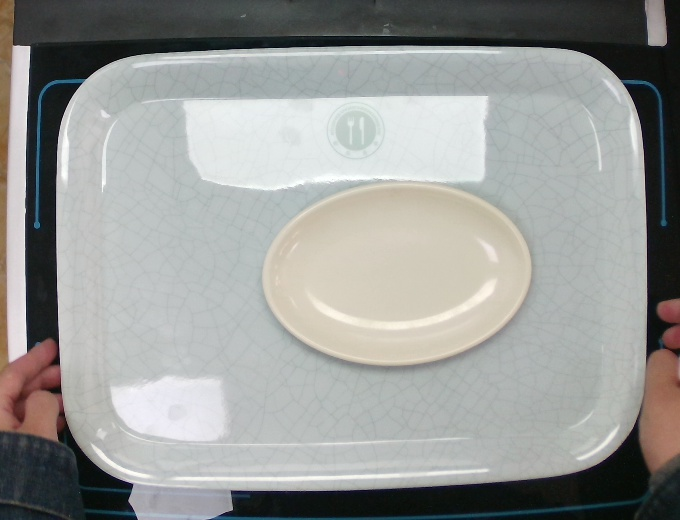JYsf-Tuo_Yuan_Wan: (259, 177, 535, 371)
